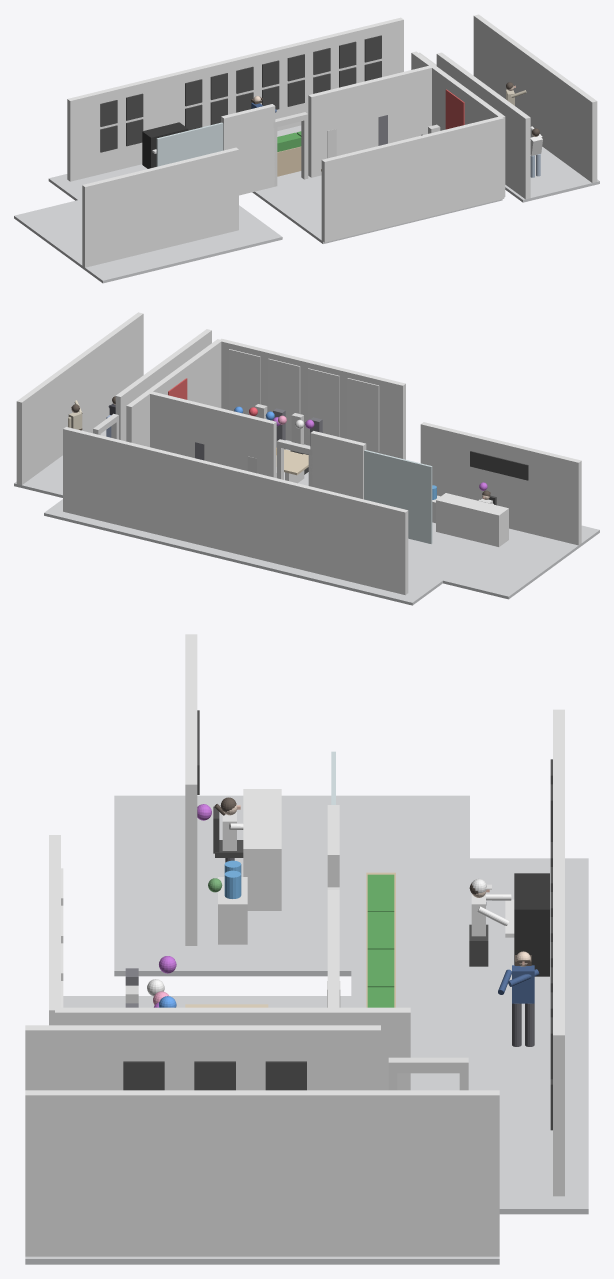
The picture shows the model from 3 angles, top to bottom: view 1: azimuth 30°, elevation 25°; view 2: azimuth 150°, elevation 25°; view 3: azimuth 270°, elevation 25°; orthographic projection. The views are drawn at different scales.
Visible parts, largest first — view 1: S02_Wall_Back, S01_Poster_Wall, S01_Wall_ReceptionBack, S01_Wall_Corridor_R, S02_Wall_FrontR, S01_Floor_Reception, S02_Wall_FrontL, S01_Wall_Corridor_L, S02_Floor, S02_Wall_Right, S01_Frosted_Partition, S01_Floor_Corridor (+21 smaller); view 2: S01_Poster_Wall, S01_Wall_ReceptionBack, S01_Wall_Corridor_R, S02_Wall_FrontR, S01_Floor_Reception, S01_Floor_PosterHall, S02_Wall_Back, S01_Frosted_Partition, S02_Wall_Right, S02_Wall_FrontL, S01_Reception_Counter, S02_WindowBlinds_0 (+7 smaller); view 3: S01_Wall_Corridor_R, S01_Floor_Reception, S01_Floor_PosterHall, S01_Wall_Corridor_L, S02_Wall_Right, S01_Poster_Wall, S01_Reception_Counter, S01_Floor_Corridor, S01_Wall_ReceptionBack, S01_Piano_Body, S02_Floor, S02_Wall_Back (+10 smaller).
Part boxes in pixels (bbox=[...]): S02_Wall_Back: bbox=[321, 116, 504, 242]; S01_Poster_Wall: bbox=[67, 17, 403, 181]; S01_Wall_ReceptionBack: bbox=[82, 147, 238, 267]; S01_Wall_Corridor_R: bbox=[473, 14, 597, 182]; S02_Wall_FrontR: bbox=[308, 66, 431, 177]; S01_Floor_Reception: bbox=[14, 200, 282, 283]; S02_Wall_FrontL: bbox=[221, 104, 275, 195]; S01_Wall_Corridor_L: bbox=[436, 52, 530, 199]; S02_Floor: bbox=[252, 172, 502, 243]; S02_Wall_Right: bbox=[411, 51, 505, 197]; S01_Frosted_Partition: bbox=[156, 122, 223, 166]; S01_Floor_Corridor: bbox=[505, 147, 599, 202]; S01_Poster_Wall: bbox=[63, 427, 408, 595]; S01_Wall_ReceptionBack: bbox=[420, 422, 581, 545]; S01_Wall_Corridor_R: bbox=[16, 312, 143, 485]; S02_Wall_FrontR: bbox=[150, 391, 276, 477]; S01_Floor_Reception: bbox=[408, 522, 599, 599]; S01_Floor_PosterHall: bbox=[44, 499, 472, 605]; S02_Wall_Back: bbox=[220, 338, 405, 459]; S01_Frosted_Partition: bbox=[364, 450, 432, 543]; S02_Wall_Right: bbox=[126, 339, 222, 446]; S02_Wall_FrontL: bbox=[310, 431, 366, 499]; S01_Reception_Counter: bbox=[436, 493, 508, 546]; S02_WindowBlinds_0: bbox=[347, 378, 379, 451]; S01_Wall_Corridor_R: bbox=[25, 1090, 499, 1256]; S01_Floor_Reception: bbox=[114, 795, 469, 976]; S01_Floor_PosterHall: bbox=[351, 858, 588, 1214]; S01_Wall_Corridor_L: bbox=[25, 1025, 380, 1090]; S02_Wall_Right: bbox=[55, 1007, 410, 1090]; S01_Poster_Wall: bbox=[553, 709, 564, 1196]; S01_Reception_Counter: bbox=[243, 789, 281, 910]; S01_Floor_Corridor: bbox=[25, 1256, 499, 1264]; S01_Wall_ReceptionBack: bbox=[185, 634, 197, 945]; S01_Piano_Body: bbox=[514, 873, 549, 976]; S02_Floor: bbox=[63, 996, 410, 1007]; S02_Wall_Back: bbox=[49, 835, 60, 1025].
Bounding box in the file's own units: 18.5 × 3.33 × 9.5.
